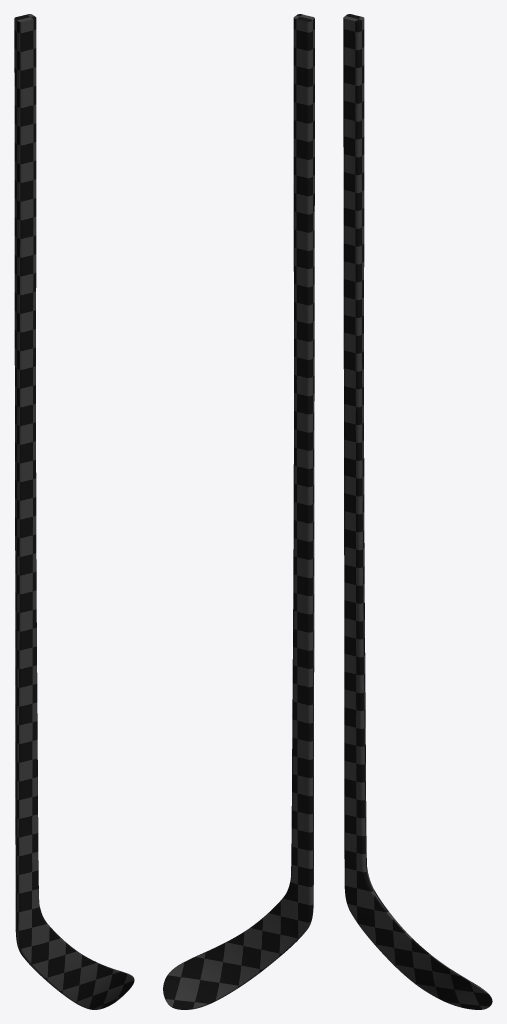
File: P70-SBT.glb
3 renders of one model, left to right at view 1: azimuth 30°, elevation 25°; view 2: azimuth 150°, elevation 25°; view 3: azimuth 330°, elevation 25°, orthographic. The views are drawn at different scales.
Parts seen in each view (by area): view 1: geometry_0; view 2: geometry_0; view 3: geometry_0.
Part boxes in pixels (<box>): geometry_0: <box>14,14,134,1009</box>; geometry_0: <box>163,14,314,1009</box>; geometry_0: <box>343,14,492,1009</box>.
Bounding box in the file's own units: 227 × 1650 × 78.08.
1 material, 1 textured.
